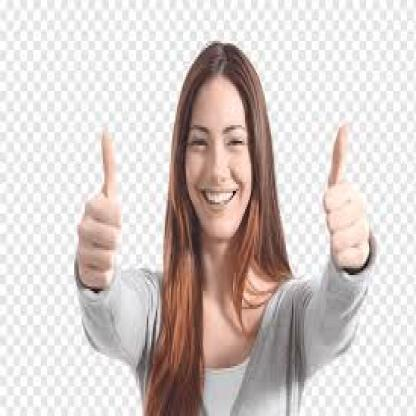thumb_up: (74, 128, 128, 294), (316, 122, 372, 270)
